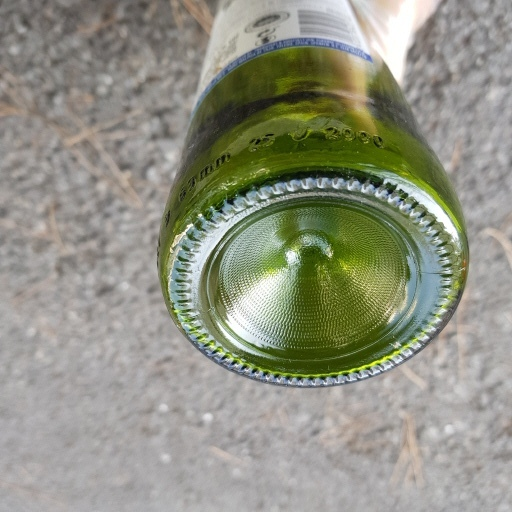Glass_2: (157, 1, 469, 386)
